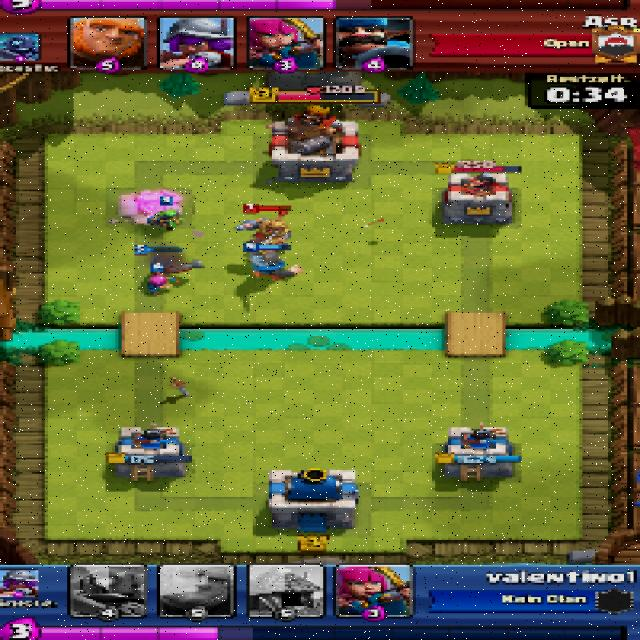Enemy-Prince: (241, 217, 292, 249)
Player-Archer: (143, 274, 181, 292)
Player-Knight: (242, 253, 304, 279)
Player-Musketeer: (146, 254, 202, 274)
Player-SpearGoblin: (146, 209, 182, 229)
